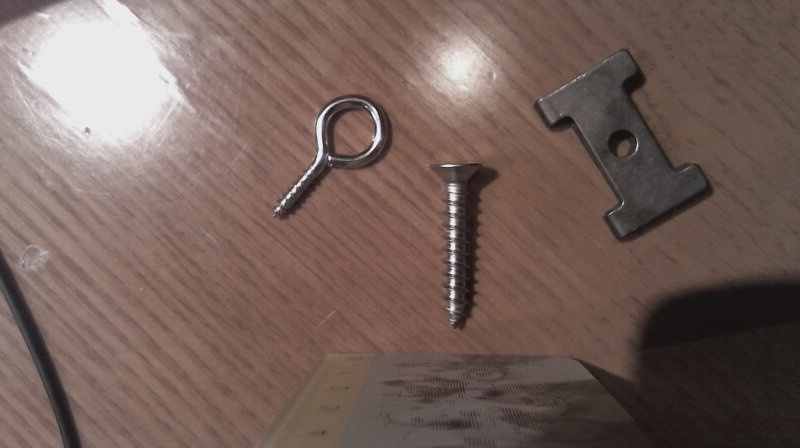O001: (267, 92, 393, 225)
O002: (534, 46, 716, 243)
S001: (424, 155, 486, 331)
